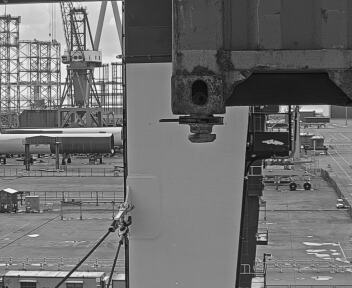twist_lock_1: (172, 107, 228, 151)
